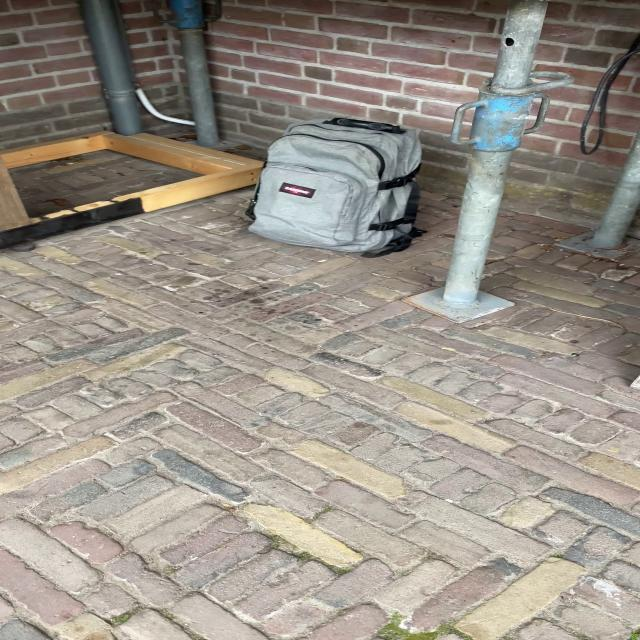backpack: (238, 110, 433, 259)
